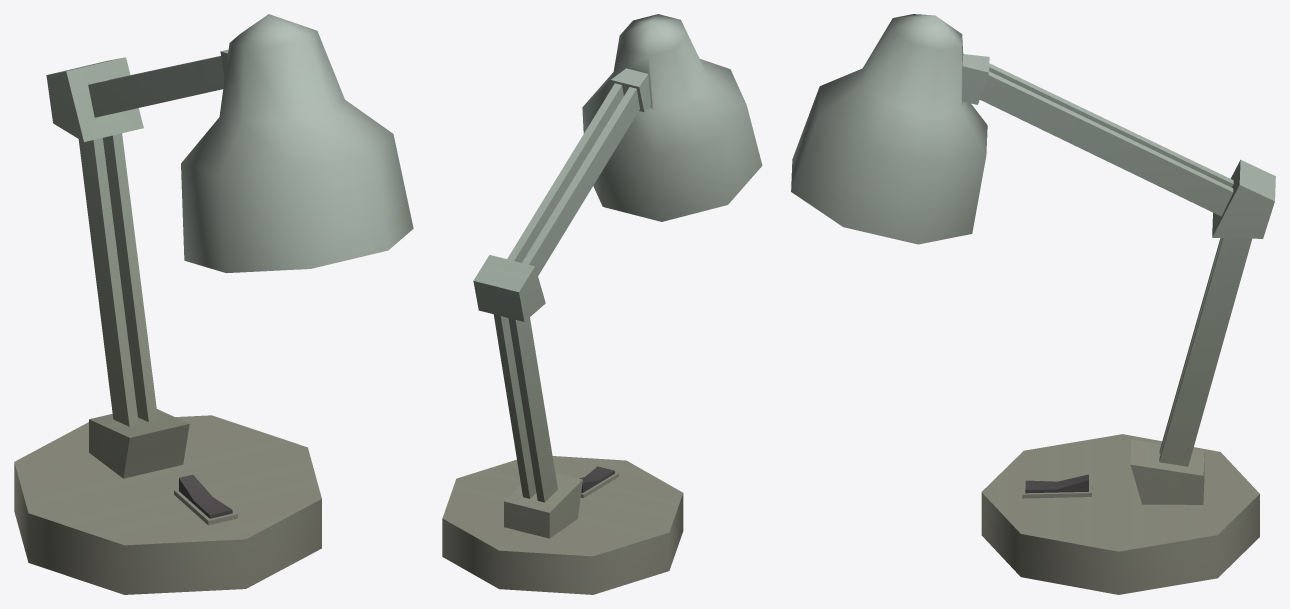
File: SM_Lamp_Office_1_03.fbx
The picture shows the model from 3 angles, left to right: view 1: azimuth 30°, elevation 25°; view 2: azimuth 150°, elevation 25°; view 3: azimuth 270°, elevation 25°; orthographic projection. The views are drawn at different scales.
Visible parts, largest first — view 1: SM_Lamp_Office_1_03; view 2: SM_Lamp_Office_1_03; view 3: SM_Lamp_Office_1_03.
Part boxes in pixels (x1,y1,x2,y2): SM_Lamp_Office_1_03: (14, 14, 413, 594); SM_Lamp_Office_1_03: (442, 14, 762, 594); SM_Lamp_Office_1_03: (791, 14, 1275, 594).
Size of the model in its own units: 19.21 by 39.46 by 33.46.
